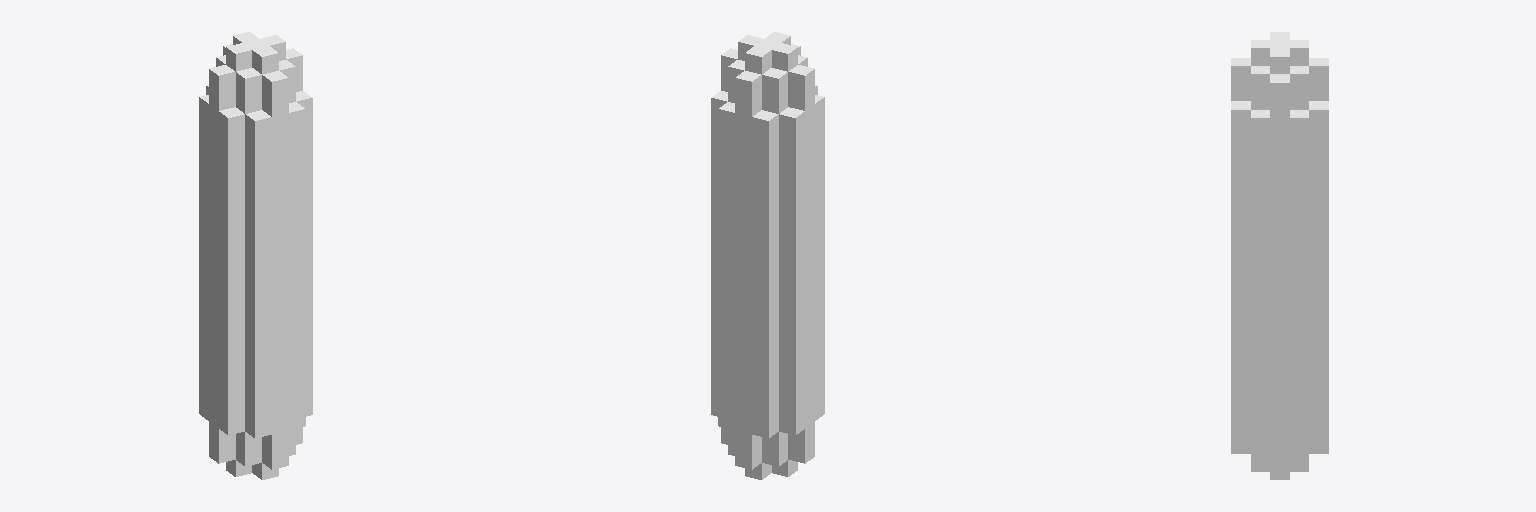
The model's file is flara_fancy.obj.
3 views of the same model, side by side, from view 1: azimuth 30°, elevation 25°; view 2: azimuth 150°, elevation 25°; view 3: azimuth 270°, elevation 25° (orthographic).
Visible parts, largest first — view 1: object 1; view 2: object 1; view 3: object 1.
Part boxes in pixels (x1,y1,x2,y2): object 1: (199,32,312,479); object 1: (711,32,824,479); object 1: (1231,32,1328,479).
Bounding box in the file's own units: 0.5 × 2.4 × 0.5.